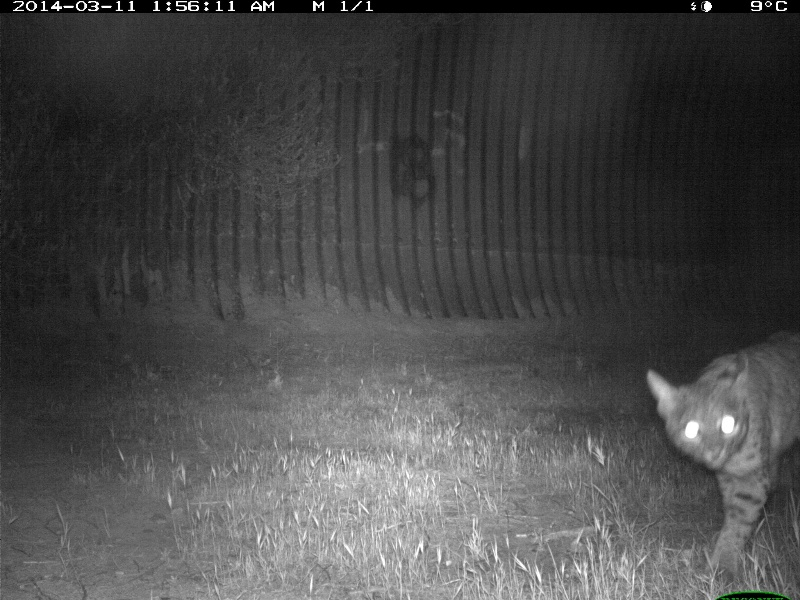cat: (644, 330, 800, 576)
